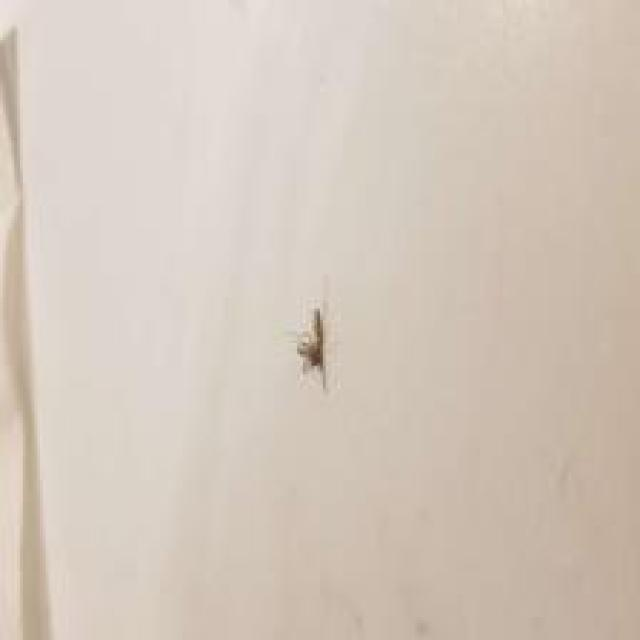Culex: (292, 307, 328, 390)
